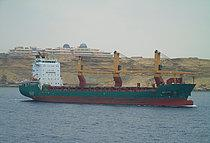Ship: (19, 44, 199, 111)
